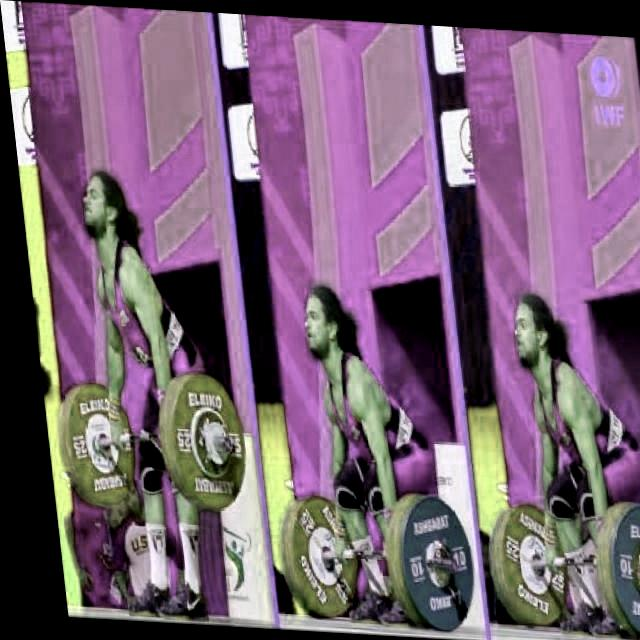barbell: (380, 482, 470, 630), (156, 367, 237, 512), (590, 492, 640, 637)
